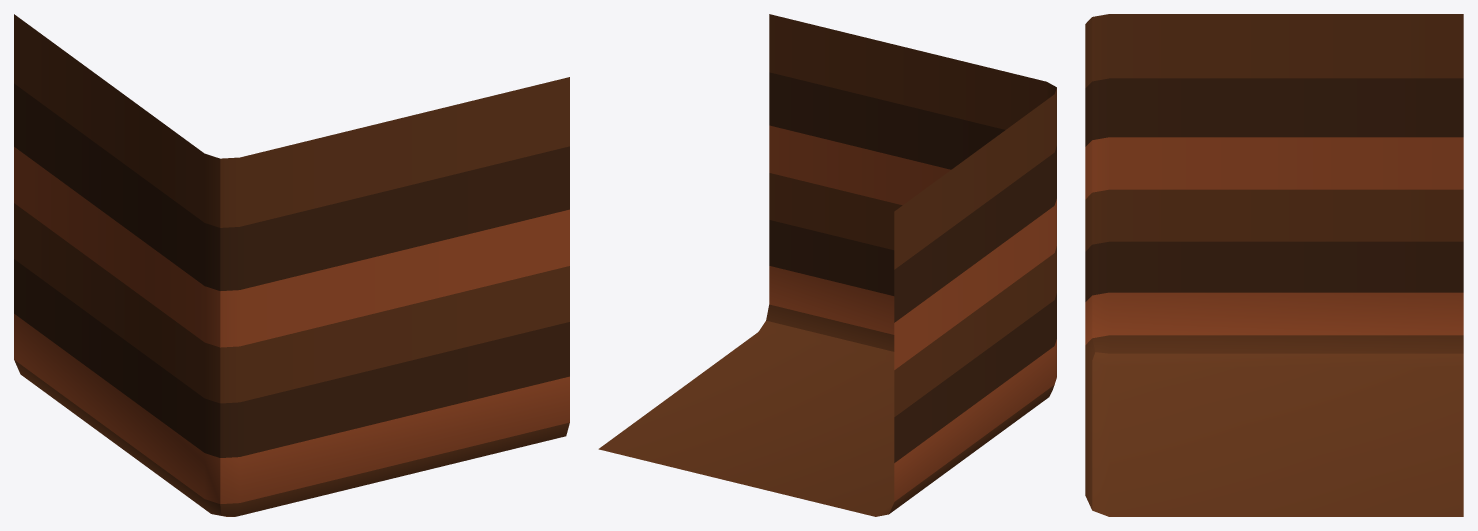
File: Cube_Grass_CornerBottom_Tall.obj
3 views of the same model, side by side, from view 1: azimuth 30°, elevation 25°; view 2: azimuth 150°, elevation 25°; view 3: azimuth 270°, elevation 25° (orthographic). The views are drawn at different scales.
Parts seen in each view (by area): view 1: Cube_Grass_CornerBottom_Tall_Cube.387; view 2: Cube_Grass_CornerBottom_Tall_Cube.387; view 3: Cube_Grass_CornerBottom_Tall_Cube.387.
Part boxes in pixels (box(x1,y1,x2,y2)): Cube_Grass_CornerBottom_Tall_Cube.387: box(14, 14, 569, 516); Cube_Grass_CornerBottom_Tall_Cube.387: box(598, 14, 1056, 516); Cube_Grass_CornerBottom_Tall_Cube.387: box(1085, 14, 1463, 516).
Size of the model in its own units: 2 by 2 by 2.
